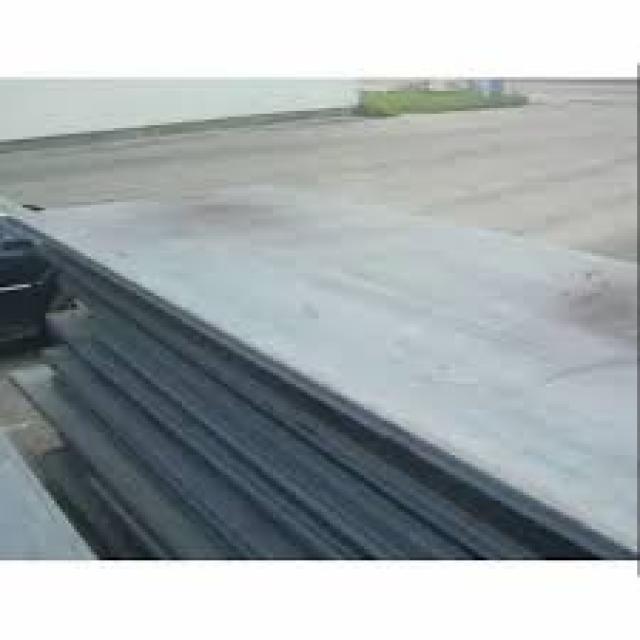Dry: (26, 196, 631, 555)
